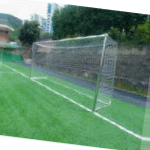goals: (29, 31, 119, 113)
